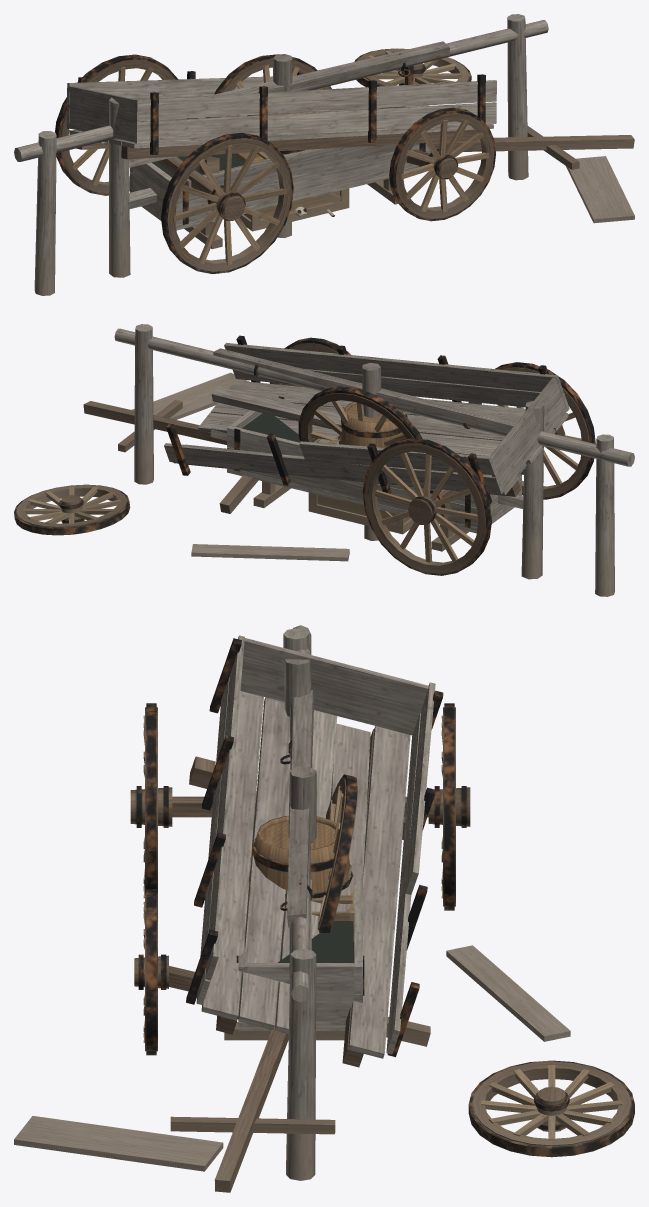
Rendered from western.glb.
3 views of the same model, one above another, from view 1: azimuth 30°, elevation 25°; view 2: azimuth 150°, elevation 25°; view 3: azimuth 270°, elevation 25° (orthographic). The views are drawn at different scales.
Parts seen in each view (by area): view 1: wagon_broken, trough, hitch_rail, fence_rail, crate, wheel_lean, fence_post; view 2: wagon_broken, hitch_rail, fence_rail, trough, wheel_lean, crate, barrel, fence_post; view 3: wagon_broken, hitch_rail, trough, fence_rail, barrel, wheel_lean, fence_post.
Part boxes in pixels (bbox=[...]): wagon_broken: bbox=[55, 48, 634, 273]; trough: bbox=[130, 106, 430, 249]; hitch_rail: bbox=[14, 14, 548, 295]; fence_rail: bbox=[109, 41, 449, 277]; crate: bbox=[232, 149, 349, 231]; wheel_lean: bbox=[206, 54, 331, 118]; fence_post: bbox=[273, 54, 292, 238]; wagon_broken: bbox=[14, 335, 595, 575]; hitch_rail: bbox=[114, 324, 634, 596]; fence_rail: bbox=[210, 348, 544, 579]; trough: bbox=[227, 396, 521, 551]; wheel_lean: bbox=[298, 386, 422, 446]; crate: bbox=[308, 434, 413, 534]; barrel: bbox=[338, 401, 407, 447]; fence_post: bbox=[362, 363, 381, 540]; wagon_broken: bbox=[14, 635, 634, 1192]; hitch_rail: bbox=[280, 625, 316, 1180]; trough: bbox=[224, 790, 364, 1040]; fence_rail: bbox=[284, 659, 313, 978]; barrel: bbox=[249, 816, 352, 898]; wheel_lean: bbox=[318, 774, 357, 932]; fence_post: bbox=[288, 766, 316, 842].
Size of the model in its own units: 5.46 by 1.73 by 3.58.
Materials: 1 (1 with a texture image).
